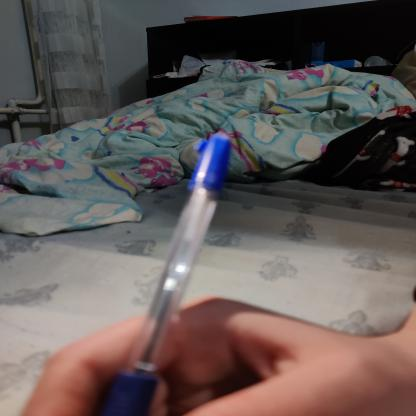pen: (62, 130, 239, 416)
